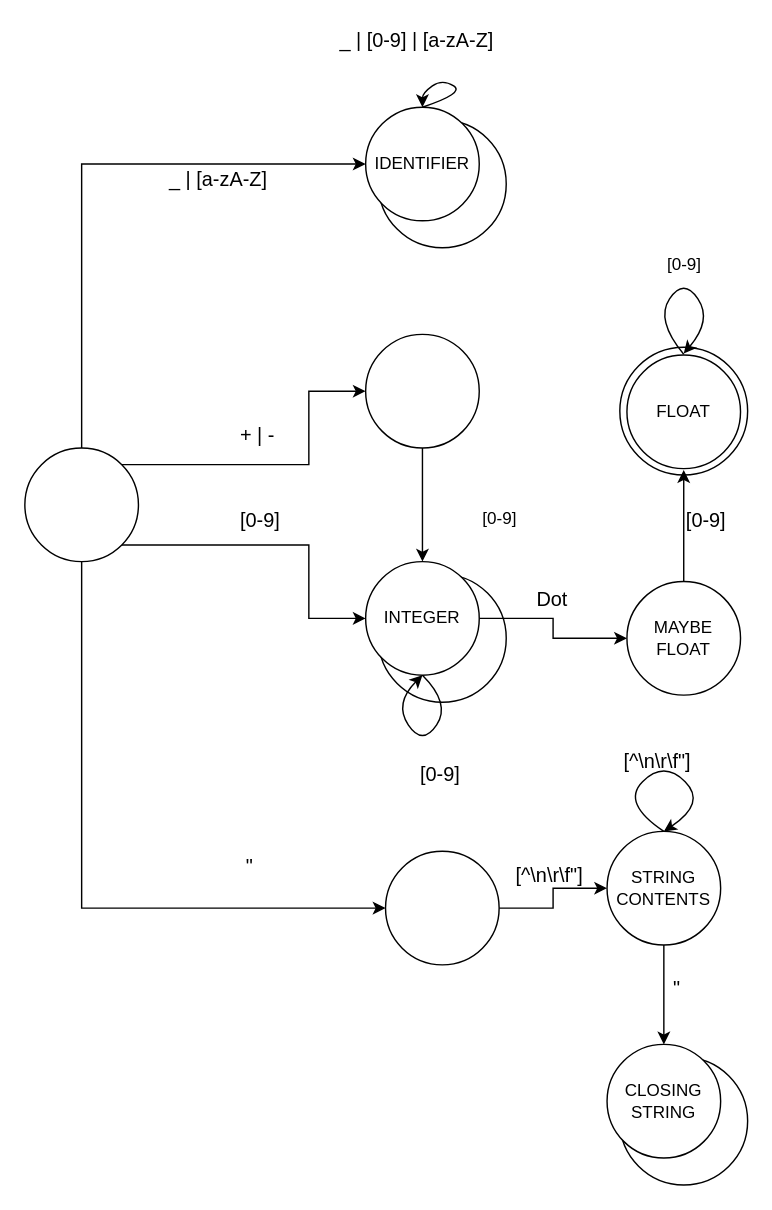
Some shapes in this 772 by 1210 pixel diagram are drawn without their labels. Here are the shapes that lost their labels. From the top down, the centre of each, then its label:
At point (421, 390): "MAYBE INTEGER".
At point (80, 504): "START".
At point (441, 907): "OPENING STRING".
